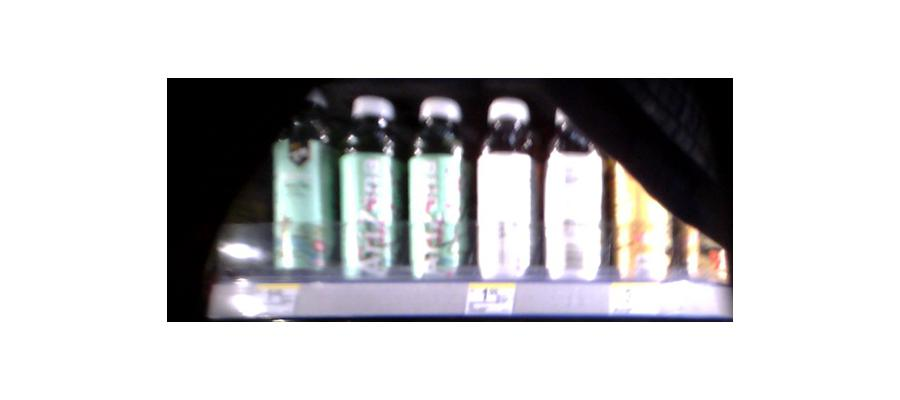bottle: (268, 89, 335, 282), (472, 103, 541, 284), (541, 106, 610, 283), (404, 99, 468, 280), (337, 97, 398, 278), (621, 176, 673, 278)
